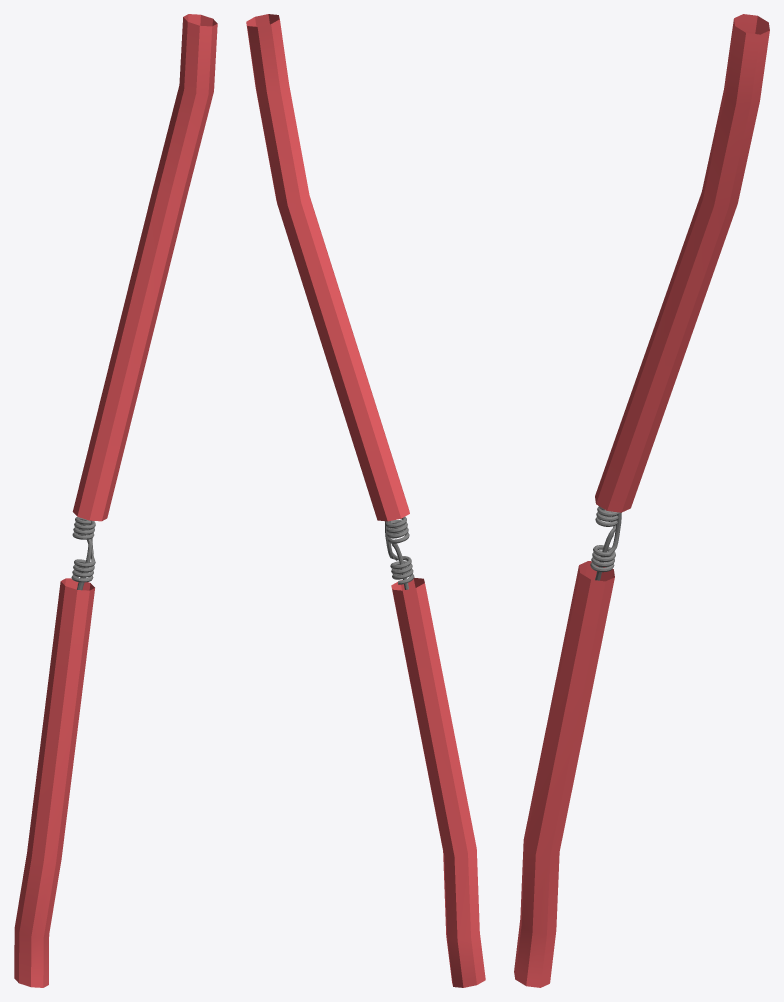
File: solderd_wire.gltf
3 views of the same model, side by side, from view 1: azimuth 30°, elevation 25°; view 2: azimuth 150°, elevation 25°; view 3: azimuth 330°, elevation 25° (orthographic). The views are drawn at different scales.
Parts seen in each view (by area): view 1: wire_broken_03, pHelix_3a, pHelix_3b; view 2: wire_broken_03, pHelix_3a, pHelix_3b; view 3: wire_broken_03, pHelix_3b, pHelix_3a.
Part boxes in pixels (bbox=[...]): wire_broken_03: bbox=[14, 14, 217, 987]; pHelix_3a: bbox=[72, 517, 95, 590]; pHelix_3b: bbox=[71, 520, 95, 582]; wire_broken_03: bbox=[246, 14, 485, 987]; pHelix_3a: bbox=[385, 516, 409, 589]; pHelix_3b: bbox=[385, 521, 414, 584]; wire_broken_03: bbox=[514, 14, 769, 987]; pHelix_3b: bbox=[590, 512, 621, 572]; pHelix_3a: bbox=[595, 506, 619, 580].
Bounding box in the file's own units: 0.5615 × 2.29 × 0.163.
